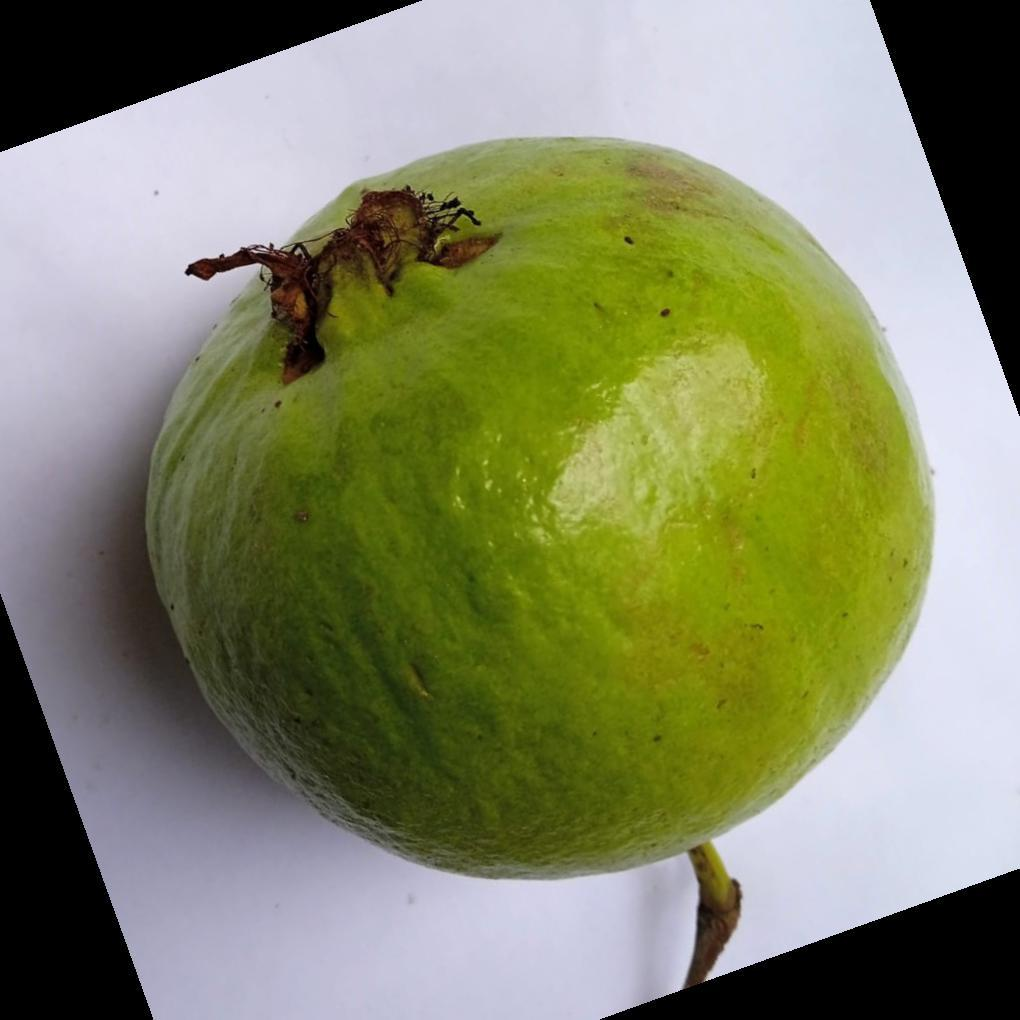FreshGuava: (143, 136, 937, 886)
